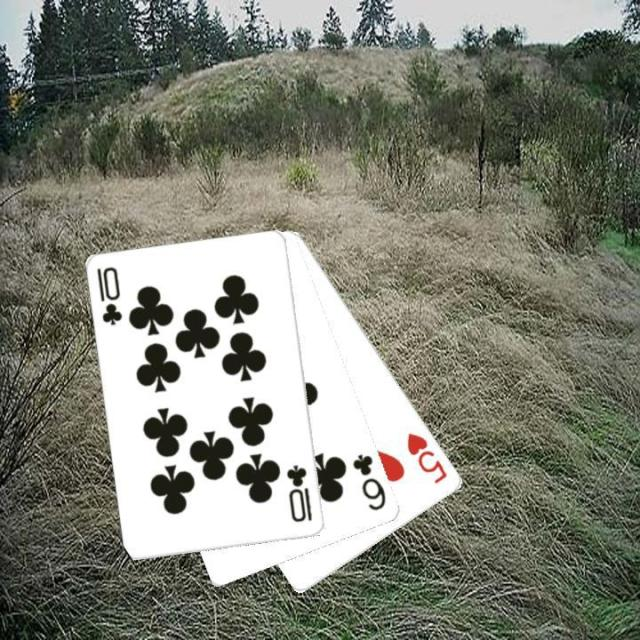10C: (94, 263, 125, 327), (284, 462, 314, 524)
5H: (402, 428, 450, 486)
6C: (348, 450, 388, 513)
